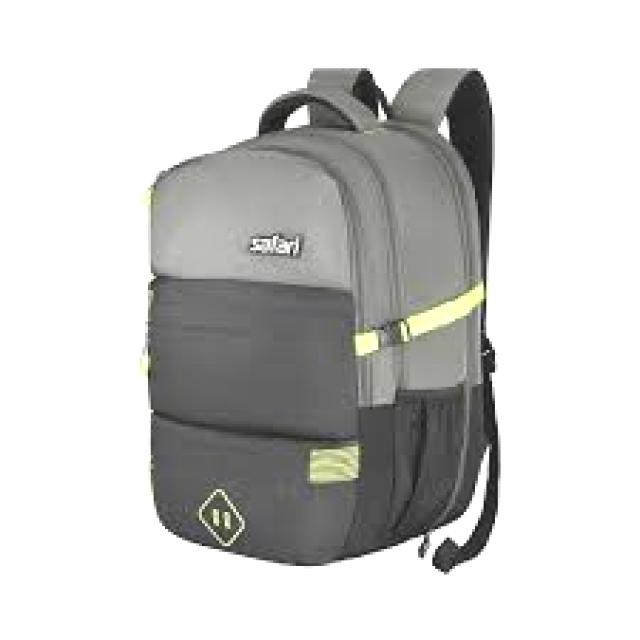backpack: (141, 64, 502, 573)
